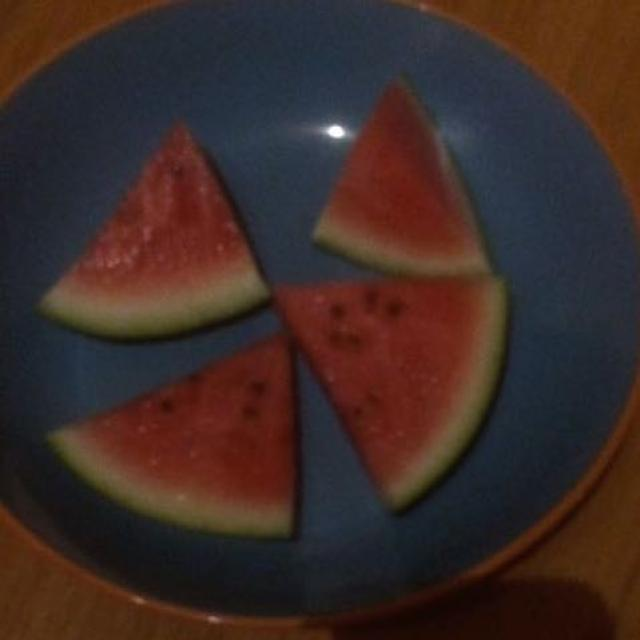watermelon-fresh: (58, 102, 514, 501)
